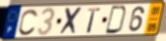3: (37, 7, 57, 37)
6: (128, 5, 145, 33)
C: (18, 8, 40, 37)
D: (104, 5, 128, 35)
T: (86, 7, 102, 34)
X: (58, 6, 85, 36)
